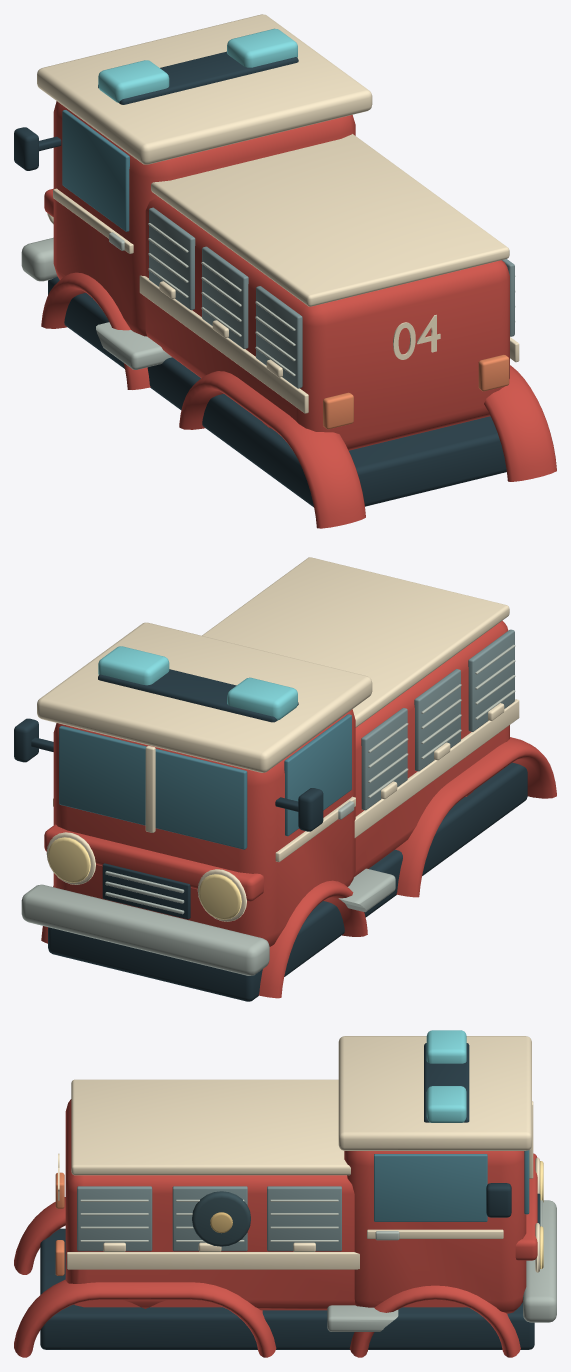
The model's file is engine_body.glb.
3 renders of one model, top to bottom at view 1: azimuth 30°, elevation 25°; view 2: azimuth 150°, elevation 25°; view 3: azimuth 270°, elevation 25°, orthographic. The views are drawn at different scales.
Visible parts, largest first — view 1: Chassis; view 2: Chassis; view 3: Chassis.
Part boxes in pixels (x1,y1,x2,y2): Chassis: [14, 14, 556, 528]; Chassis: [14, 557, 556, 1001]; Chassis: [14, 1030, 556, 1357].
Bounding box in the file's own units: 2.69 × 2.33 × 4.78.
